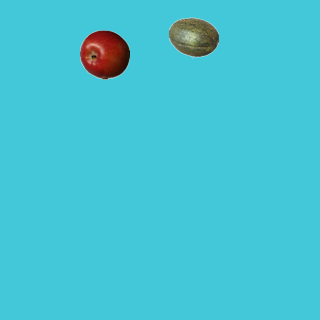Apple Braeburn: (79, 29, 129, 79)
Melon Piel de Sapo: (168, 12, 218, 62)
